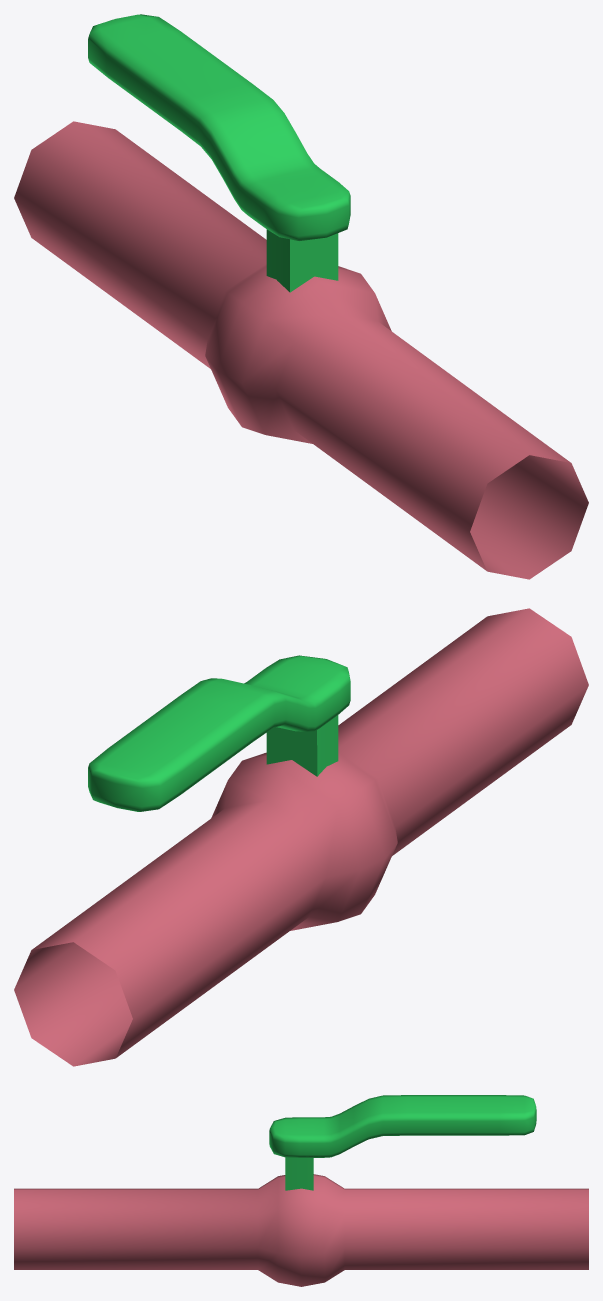
Rendered from Big_Valve_UV.fbx.
The picture shows the model from 3 angles, top to bottom: view 1: azimuth 30°, elevation 25°; view 2: azimuth 150°, elevation 25°; view 3: azimuth 270°, elevation 25°; orthographic projection. The views are drawn at different scales.
Visible parts, largest first — view 1: BV_ball, BV_Lever; view 2: BV_ball, BV_Lever; view 3: BV_ball, BV_Lever.
Boxes of the visible parts, x1=… form: BV_ball: x1=14, y1=121, x2=588, y2=579; BV_Lever: x1=88, y1=14, x2=350, y2=292; BV_ball: x1=14, y1=608, x2=588, y2=1066; BV_Lever: x1=88, y1=655, x2=350, y2=811; BV_ball: x1=14, y1=1174, x2=588, y2=1286; BV_Lever: x1=269, y1=1095, x2=536, y2=1190.
Size of the model in its own units: 2 by 3.25 by 9.39.
